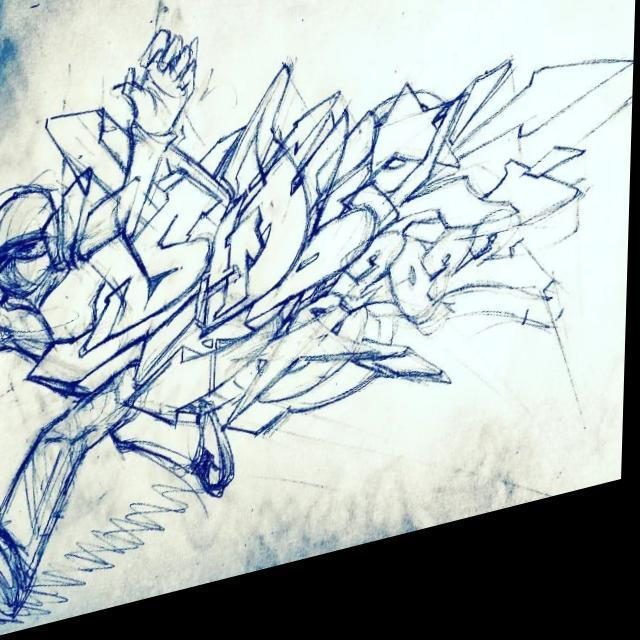-: (21, 0, 637, 515), (0, 0, 256, 639)
